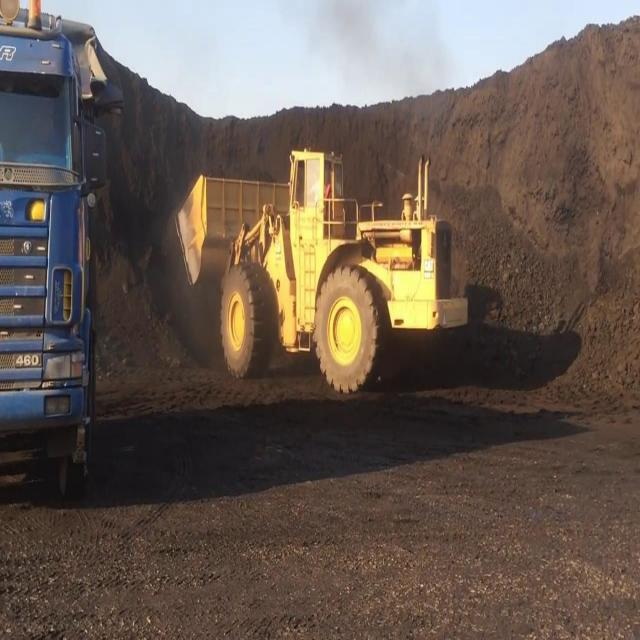Dump Truck: (3, 4, 123, 494)
Loader: (170, 146, 470, 404)
